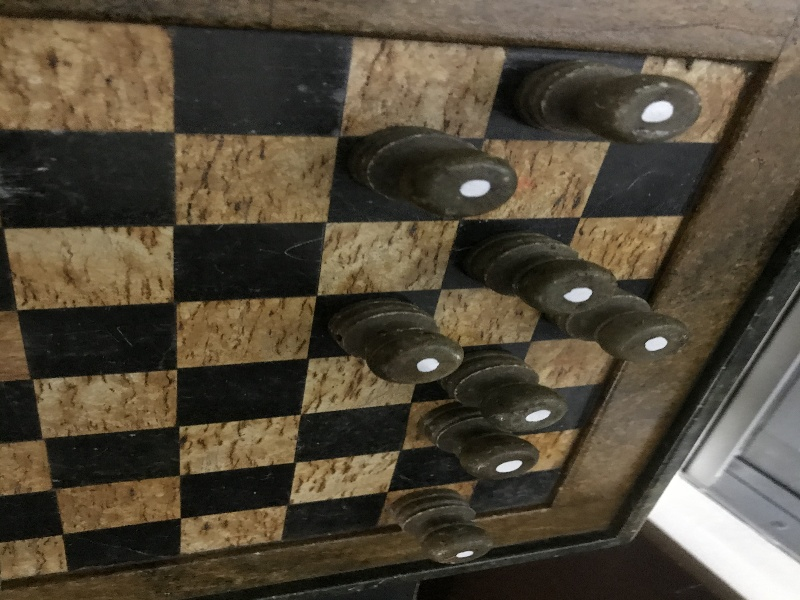WhitePawn: (525, 60, 700, 144), (355, 126, 516, 217), (476, 233, 615, 316), (329, 300, 463, 385), (555, 287, 688, 364), (441, 352, 567, 433), (420, 403, 539, 480), (393, 490, 490, 563)
